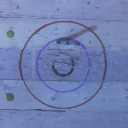Axe Tip: (61, 40, 71, 43)
